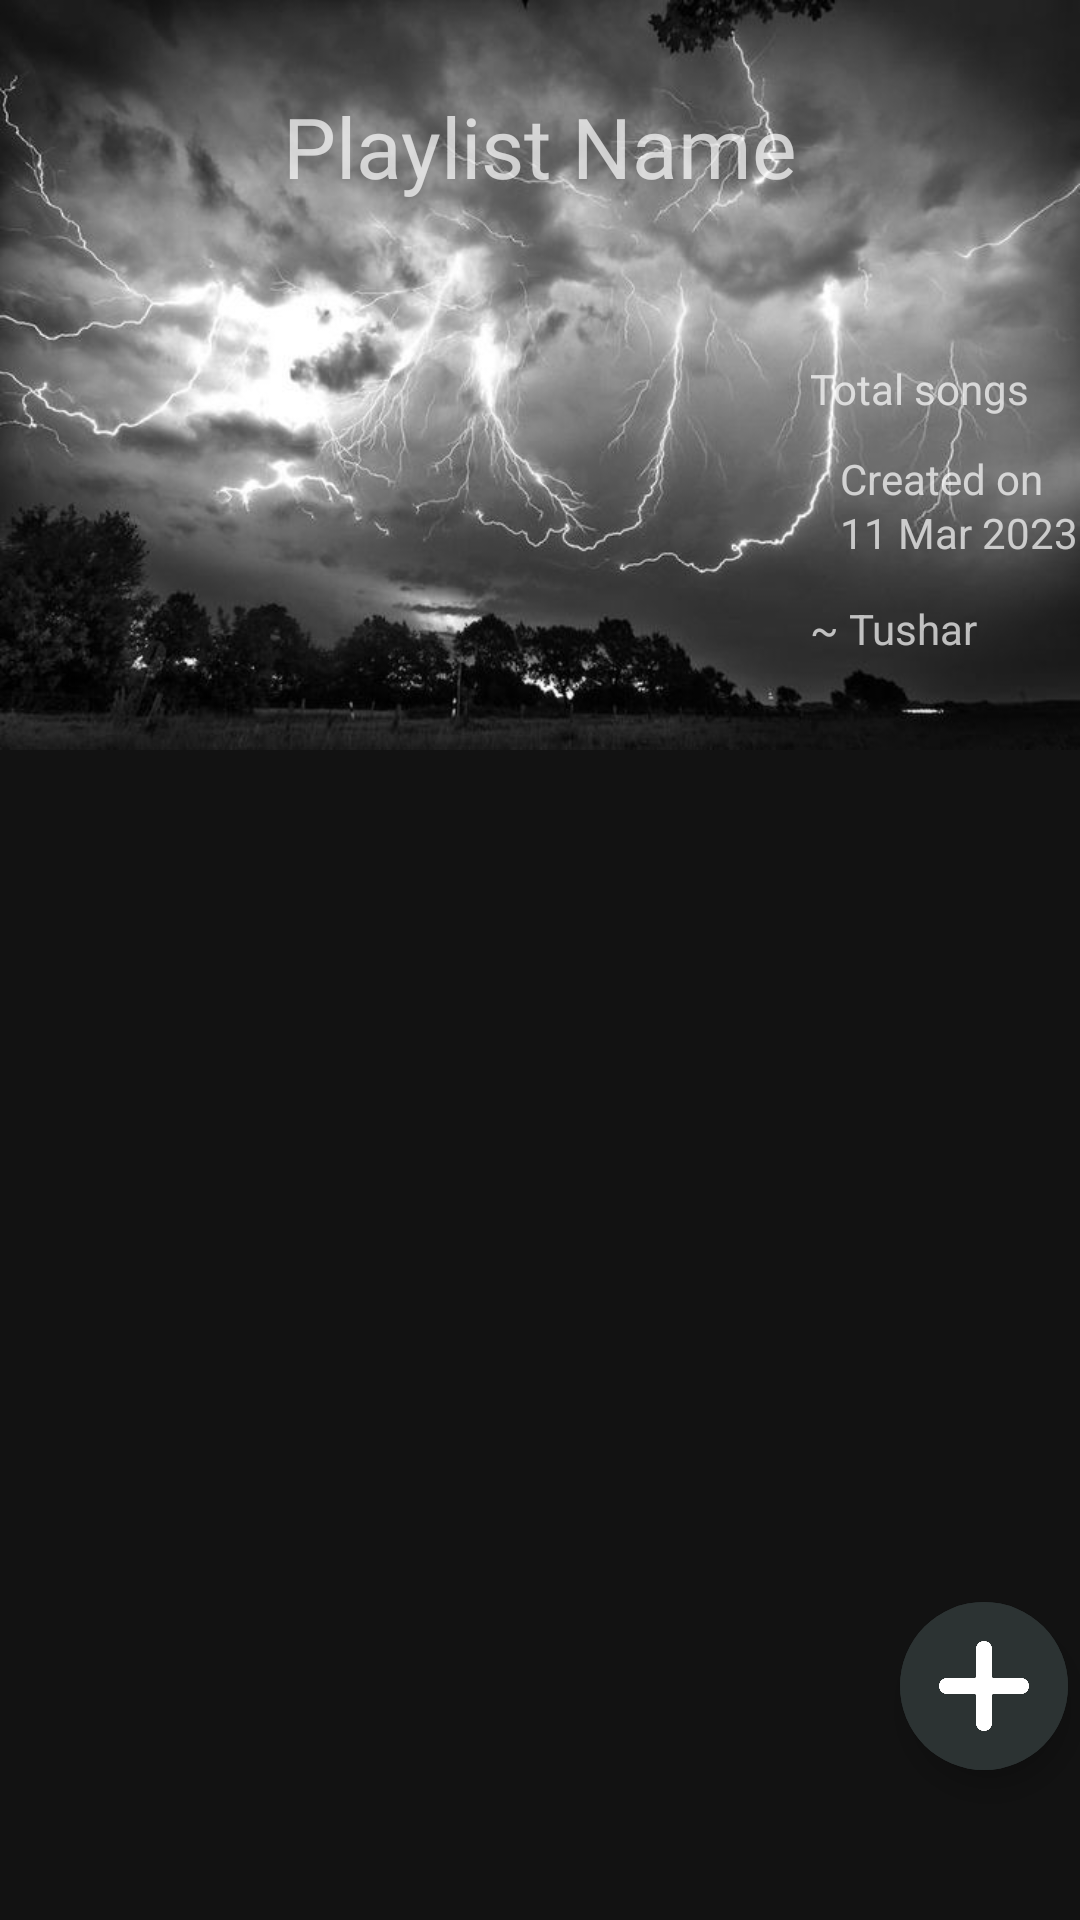

Where icons sit on this 1080 × 1920 app screen, as (x1, y1, x2, y2):
add: (900, 1602, 1068, 1770)
